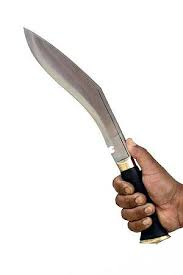knife: (19, 20, 175, 249)
